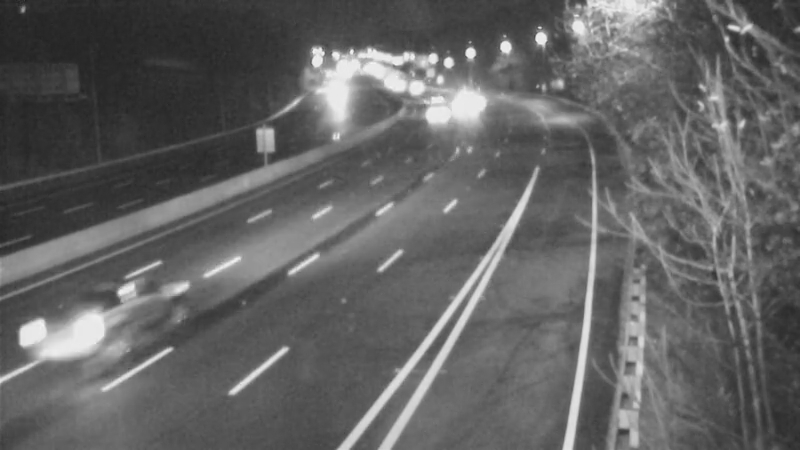vehicle: (3, 285, 113, 395), (445, 81, 495, 131), (410, 92, 460, 142)
